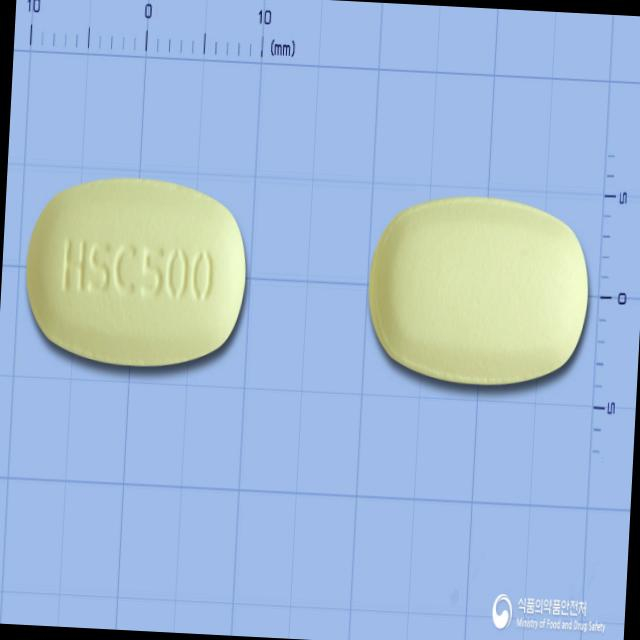Clithro: (21, 171, 252, 373)
